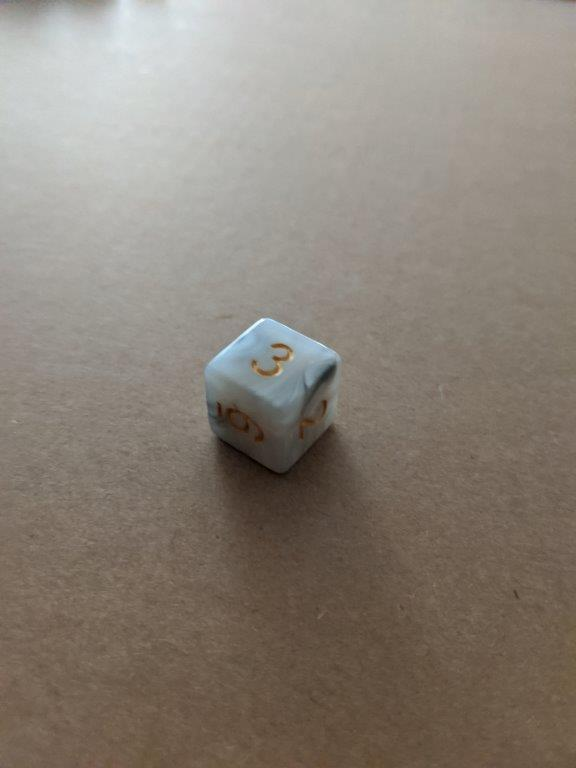d6-3: (205, 316, 340, 476)
